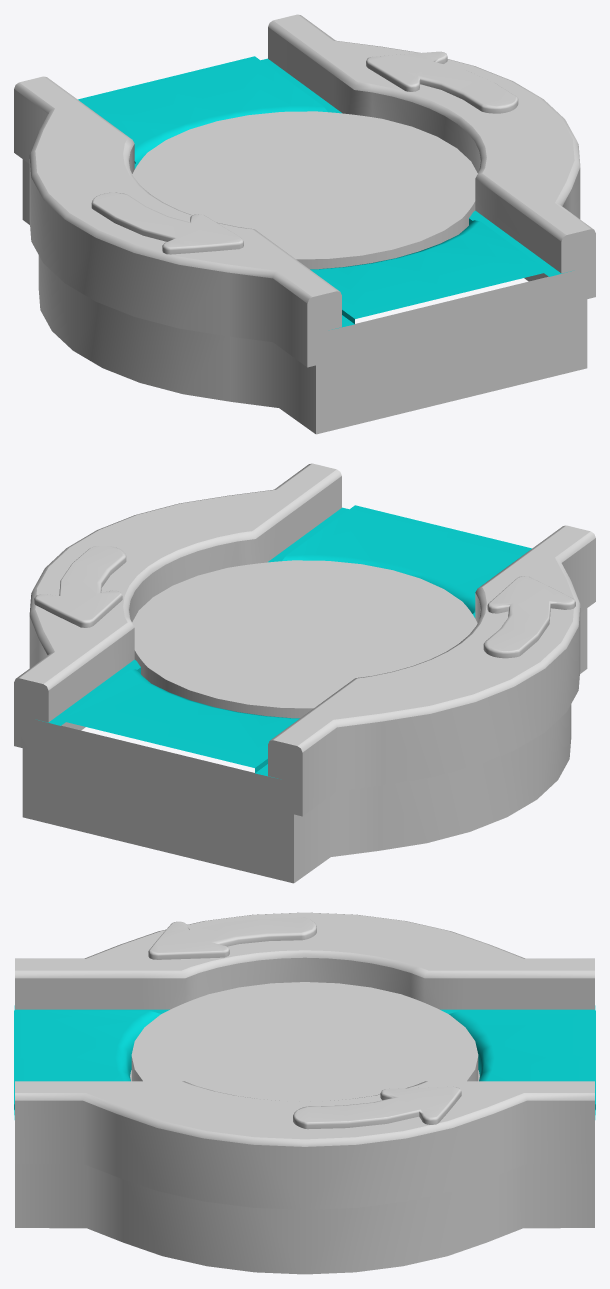
The model's file is RotatorOneQuadCCWInternalVariant.gltf.
3 renders of one model, top to bottom at view 1: azimuth 30°, elevation 25°; view 2: azimuth 150°, elevation 25°; view 3: azimuth 270°, elevation 25°, orthographic.
Visible parts, largest first — view 1: Rotator_90CCW_Main_LOD0, Rotator_90CCW_Arrows_LOD0; view 2: Rotator_90CCW_Main_LOD0, Rotator_90CCW_Arrows_LOD0; view 3: Rotator_90CCW_Main_LOD0, Rotator_90CCW_Arrows_LOD0.
Boxes of the visible parts, bbox=[...] form: Rotator_90CCW_Main_LOD0: bbox=[14, 14, 595, 434]; Rotator_90CCW_Arrows_LOD0: bbox=[132, 111, 477, 269]; Rotator_90CCW_Main_LOD0: bbox=[14, 463, 595, 883]; Rotator_90CCW_Arrows_LOD0: bbox=[132, 560, 477, 718]; Rotator_90CCW_Main_LOD0: bbox=[14, 912, 595, 1274]; Rotator_90CCW_Arrows_LOD0: bbox=[130, 982, 479, 1101].
Bounding box in the file's own units: 0.9446 × 0.272 × 1.
